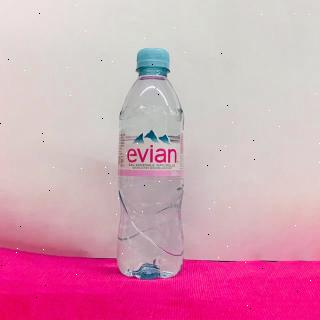Plastic-bottle: (114, 47, 190, 284)
